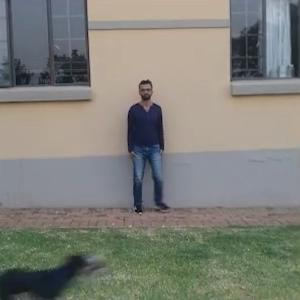follow: (125, 77, 166, 215)
